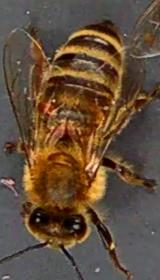varroa_mite: (34, 100, 60, 119)
